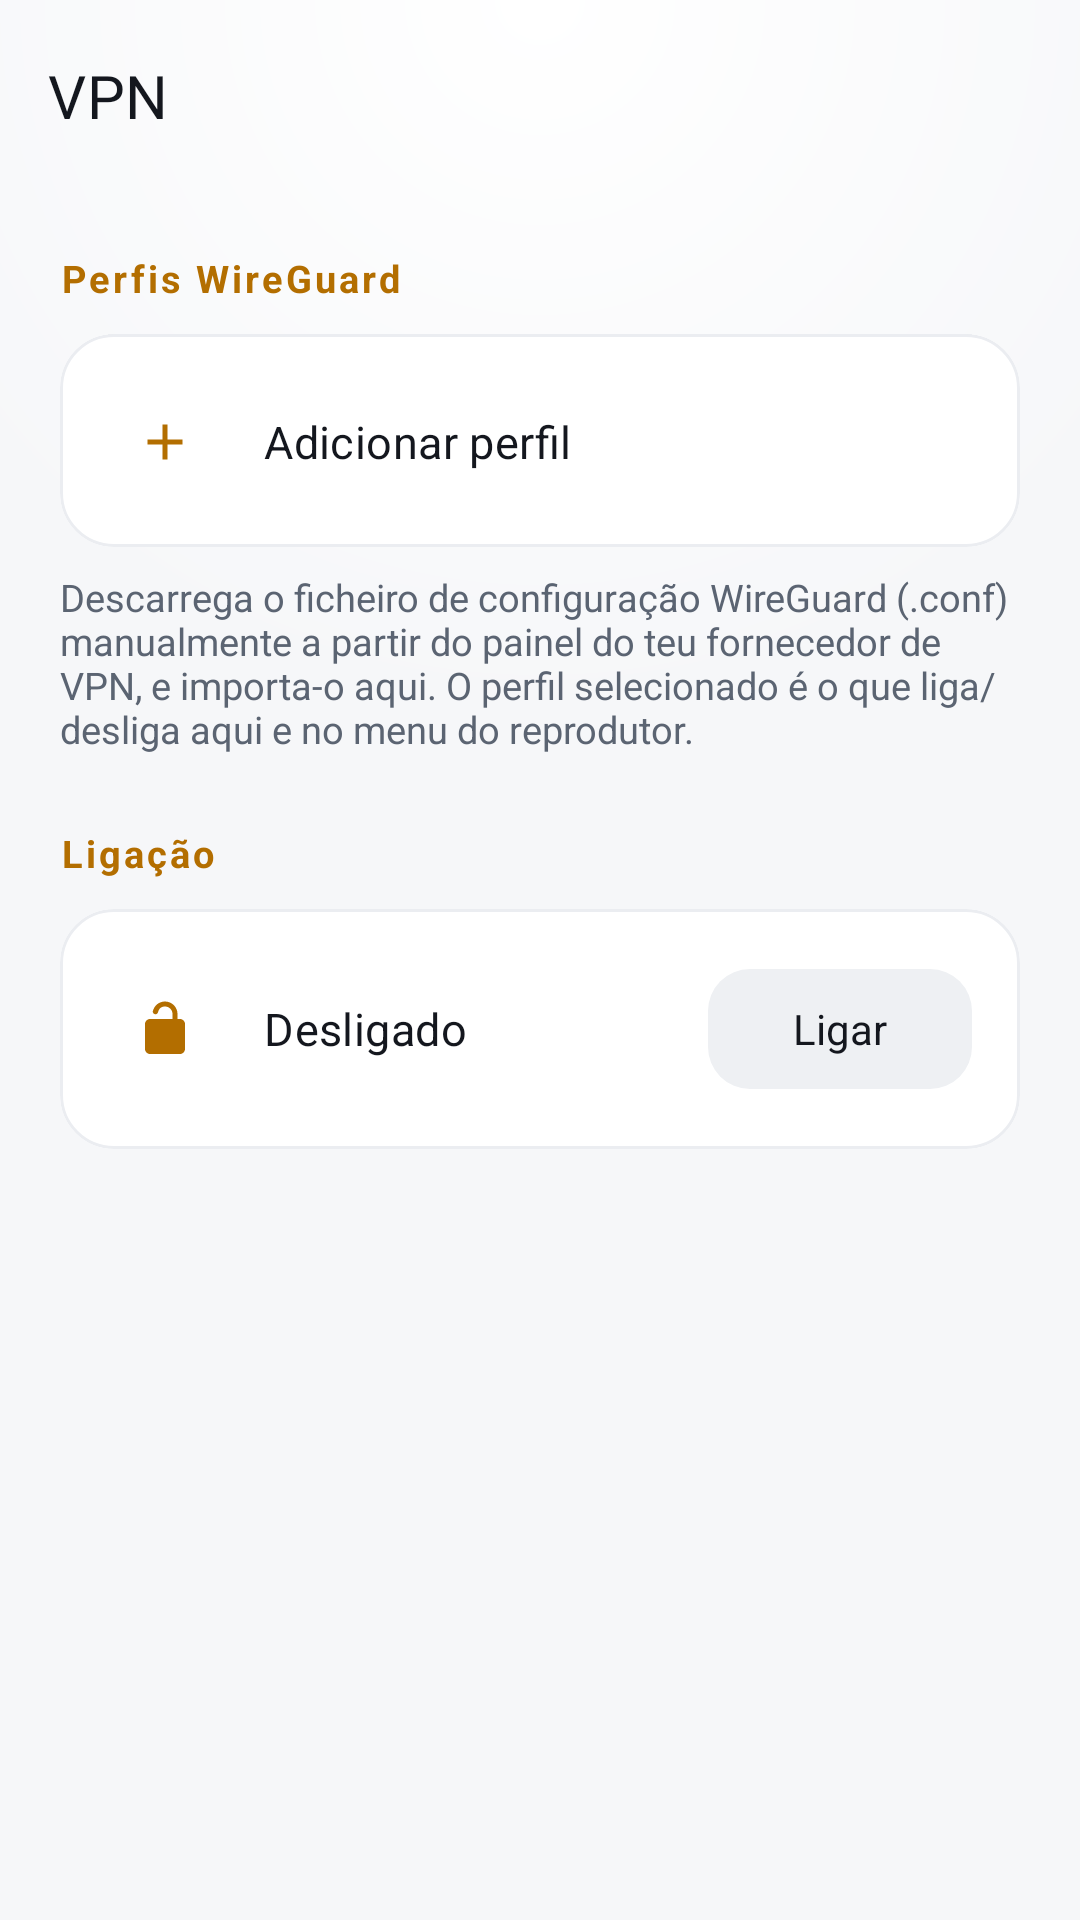

Point at icon controls on the screen. Image size 1080×1920, points as (x,y).
add: (165,442)
lock open: (165,1027)
